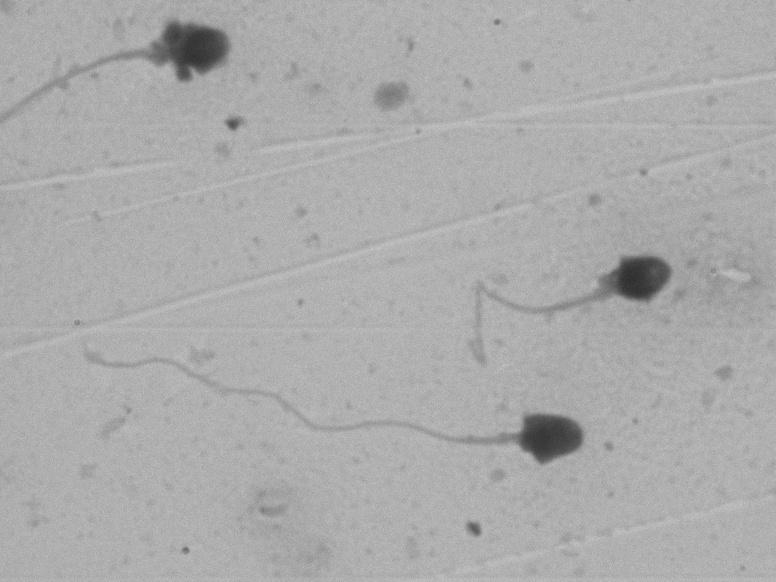Abnormal: (115, 374, 606, 477), (450, 233, 690, 367), (48, 13, 260, 141)
